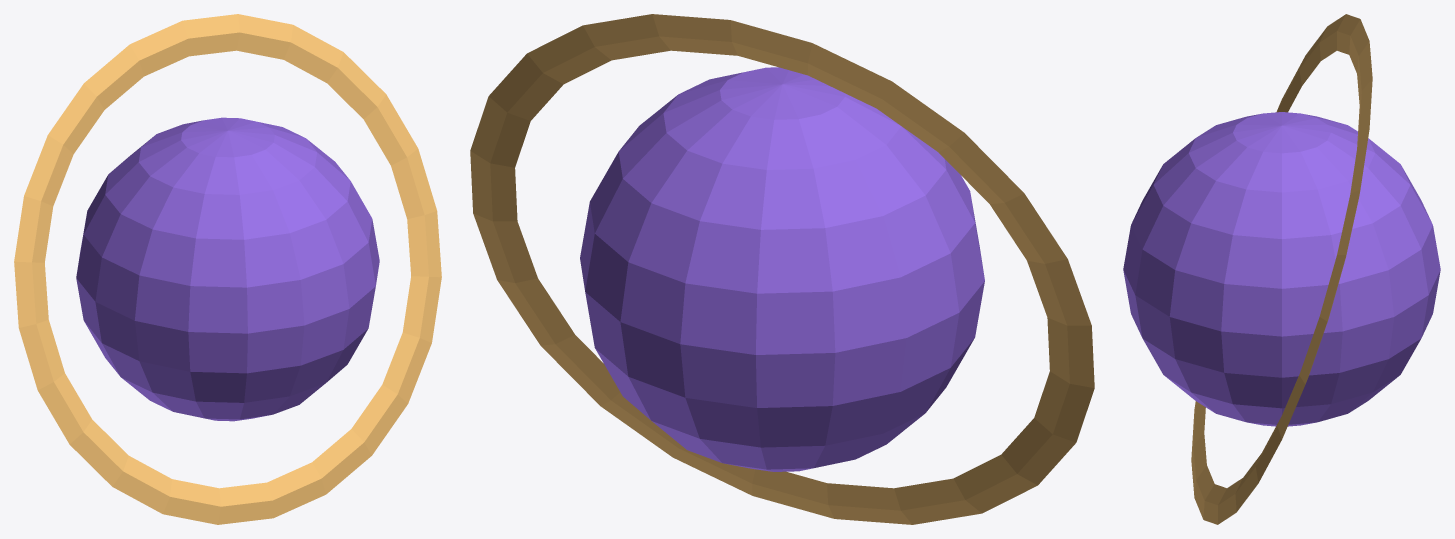
Rendered from Planet.fbx.
3 views of the same model, side by side, from view 1: azimuth 30°, elevation 25°; view 2: azimuth 150°, elevation 25°; view 3: azimuth 270°, elevation 25° (orthographic). The views are drawn at different scales.
Parts seen in each view (by area): view 1: PlanetBody, PlanetRing; view 2: PlanetBody, PlanetRing; view 3: PlanetBody, PlanetRing.
Boxes of the visible parts, x1=… form: PlanetBody: x1=76, y1=117, x2=379, y2=421; PlanetRing: x1=14, y1=14, x2=441, y2=524; PlanetBody: x1=580, y1=67, x2=984, y2=471; PlanetRing: x1=470, y1=14, x2=1094, y2=524; PlanetBody: x1=1123, y1=112, x2=1440, y2=426; PlanetRing: x1=1191, y1=14, x2=1372, y2=524.
Size of the model in its own units: 3.33 by 3.15 by 2.
